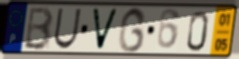0: (186, 9, 211, 53)
6: (156, 7, 182, 55)
B: (23, 6, 55, 52)
G: (117, 6, 148, 55)
U: (52, 7, 83, 51)
V: (90, 7, 120, 52)
